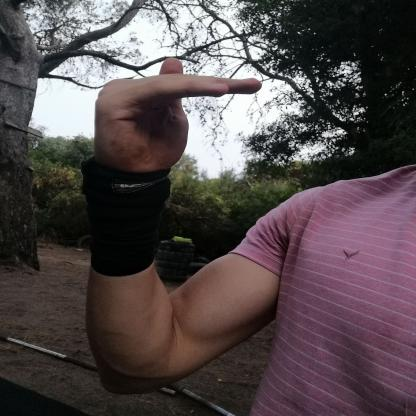KHAA: (73, 46, 276, 183)
